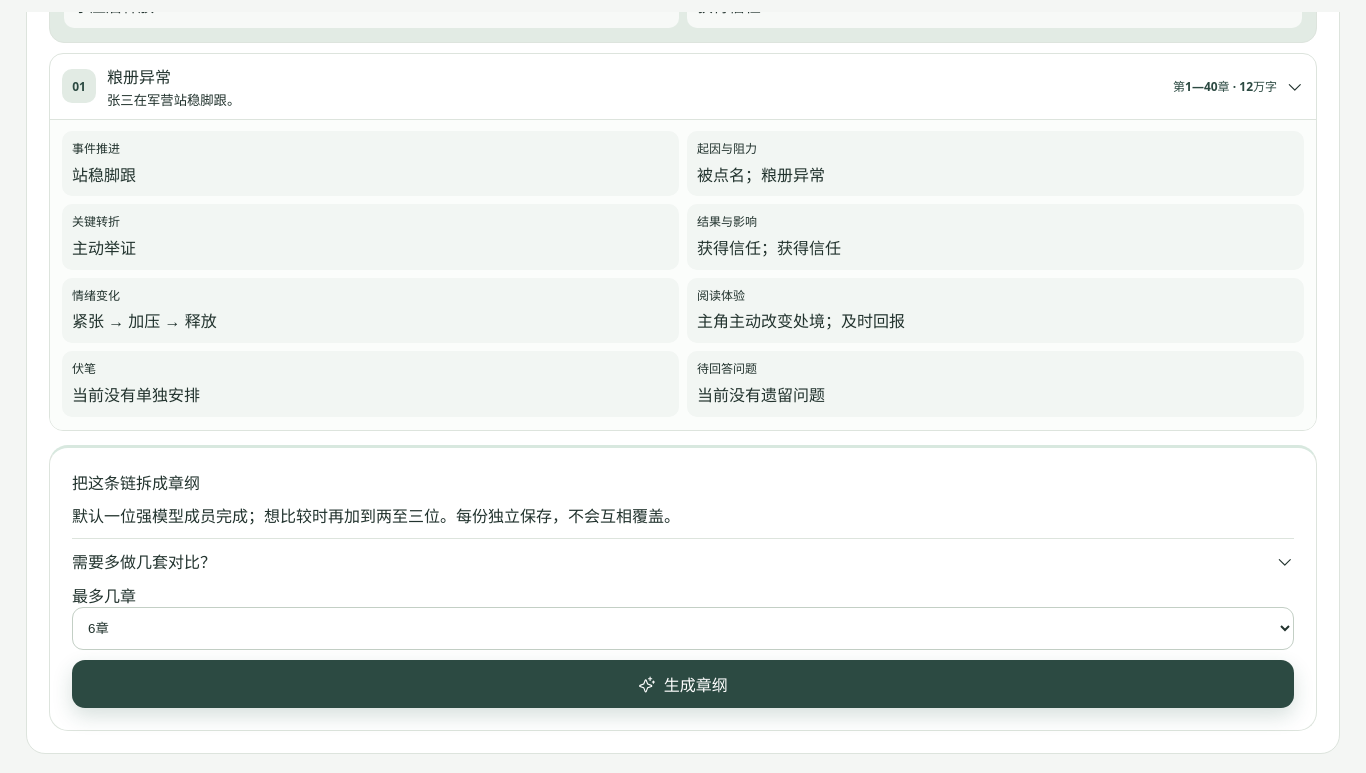
Test: V7卷链章创作工作台 › 章纲资料超限时显示服务返回的真实原因，不误报为连接失败
The width and height of the screenshot is (1366, 773).
(page scrolled)
Click the button "生成章纲": (683, 684) x1=72 y1=660 x2=1294 y2=708
(page scrolled)
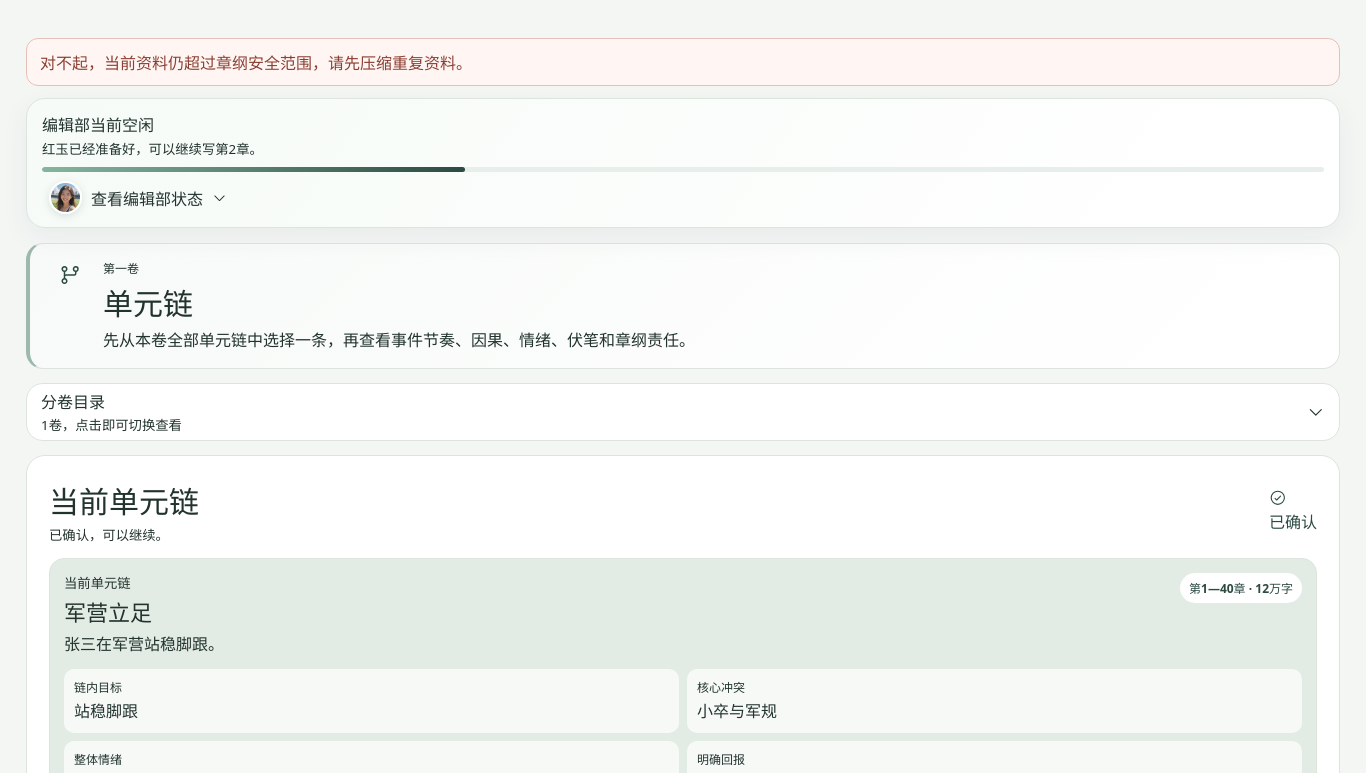
Expected: the message does not show "连接不上", x1=26 y1=38 x2=1340 y2=86
Result: the message shows "当前资料仍超过章纲安全范围" at x1=40 y1=52 x2=472 y2=74
